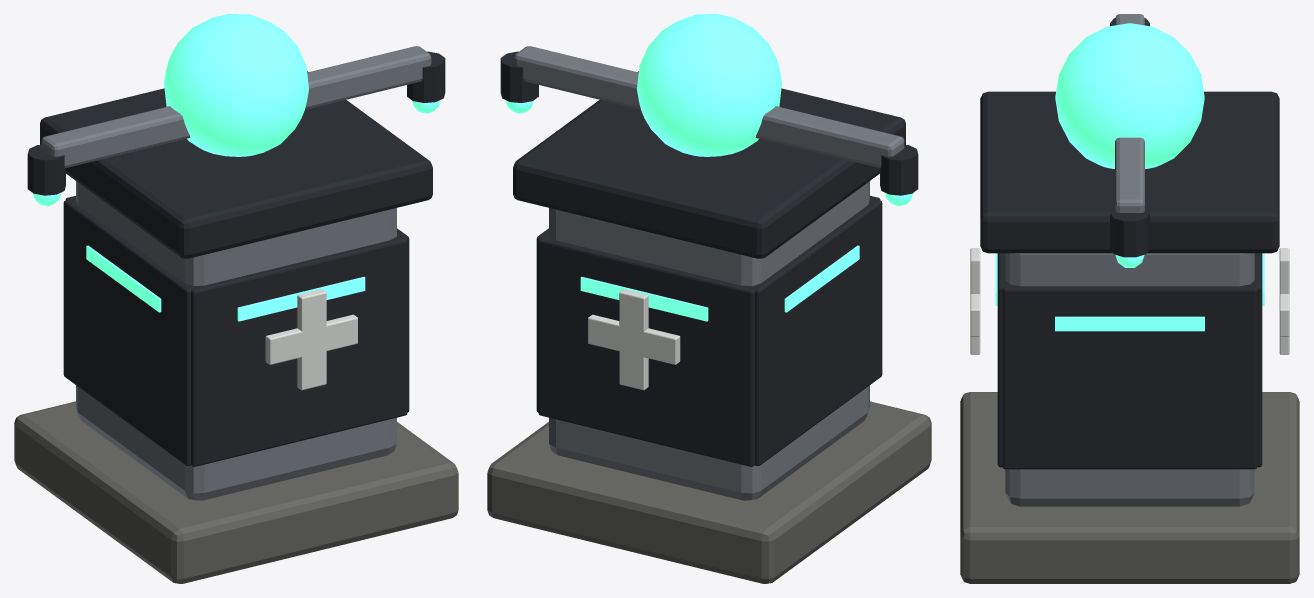
The model's file is td_repair.glb.
3 renders of one model, left to right at view 1: azimuth 30°, elevation 25°; view 2: azimuth 150°, elevation 25°; view 3: azimuth 270°, elevation 25°, orthographic. The views are drawn at different scales.
Parts seen in each view (by area): view 1: TurretBase, Spin; view 2: TurretBase, Spin; view 3: TurretBase, Spin.
Part boxes in pixels (x1=…): TurretBase: x1=14, y1=14, x2=458, y2=583; Spin: x1=27, y1=46, x2=445, y2=206; TurretBase: x1=487, y1=14, x2=931, y2=583; Spin: x1=500, y1=46, x2=918, y2=206; TurretBase: x1=960, y1=23, x2=1299, y2=583; Spin: x1=1110, y1=14, x2=1149, y2=267.
Size of the model in its own units: 1.95 by 2.15 by 1.36.
